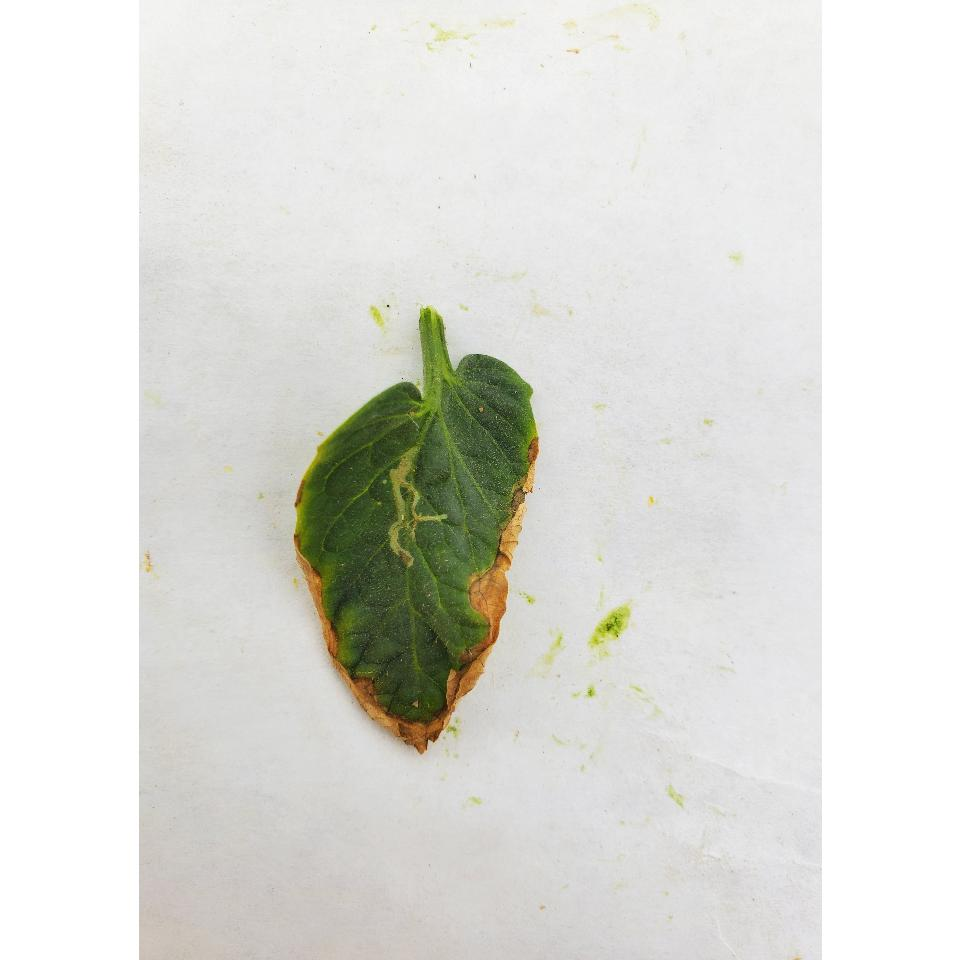tomato_bacterial_blight: (294, 332, 546, 762)
